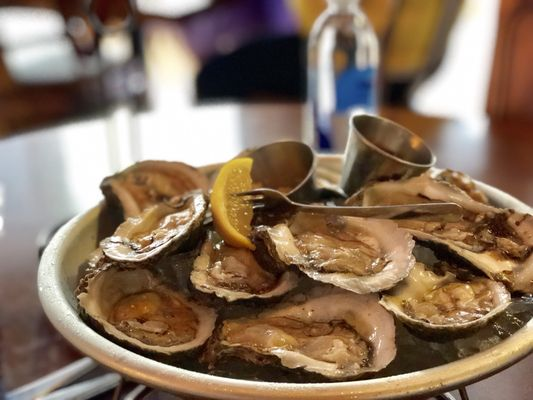sushi: (33, 149, 527, 400)
